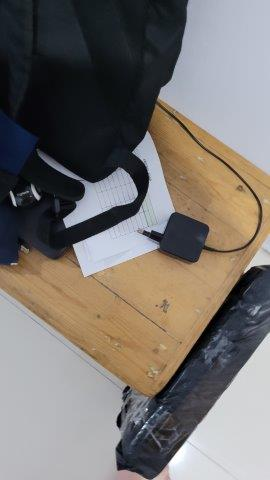kertas: (35, 123, 175, 278)
